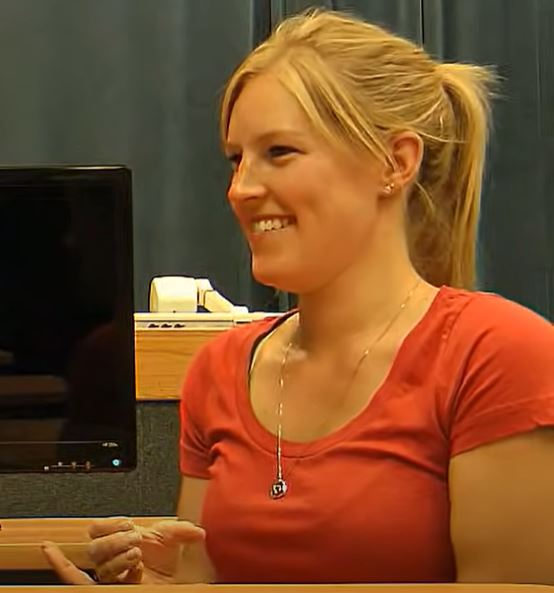Cup: (26, 496, 235, 590)
